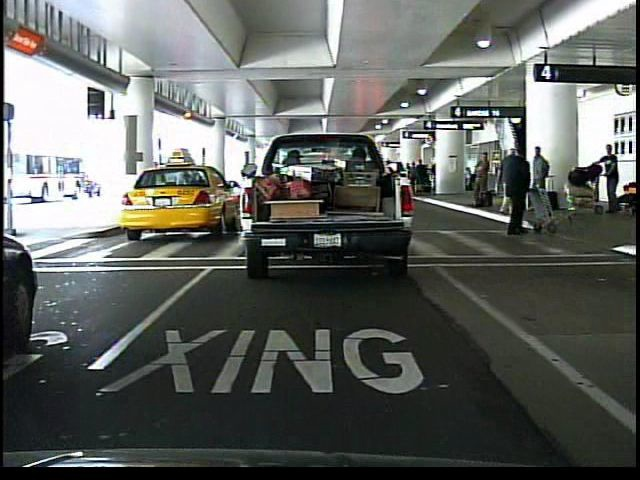person: (497, 146, 539, 238), (595, 140, 626, 217), (498, 146, 520, 225)
